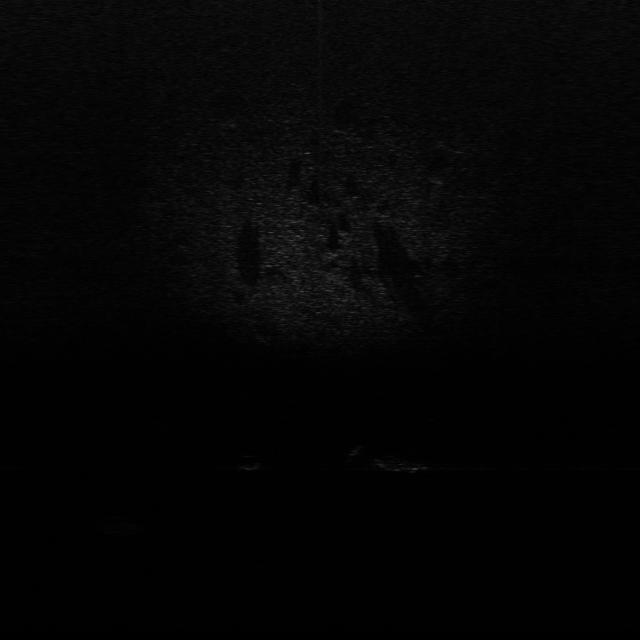ball: (230, 448, 262, 473)
circle cage: (98, 514, 148, 540)
human body: (340, 440, 440, 477)
